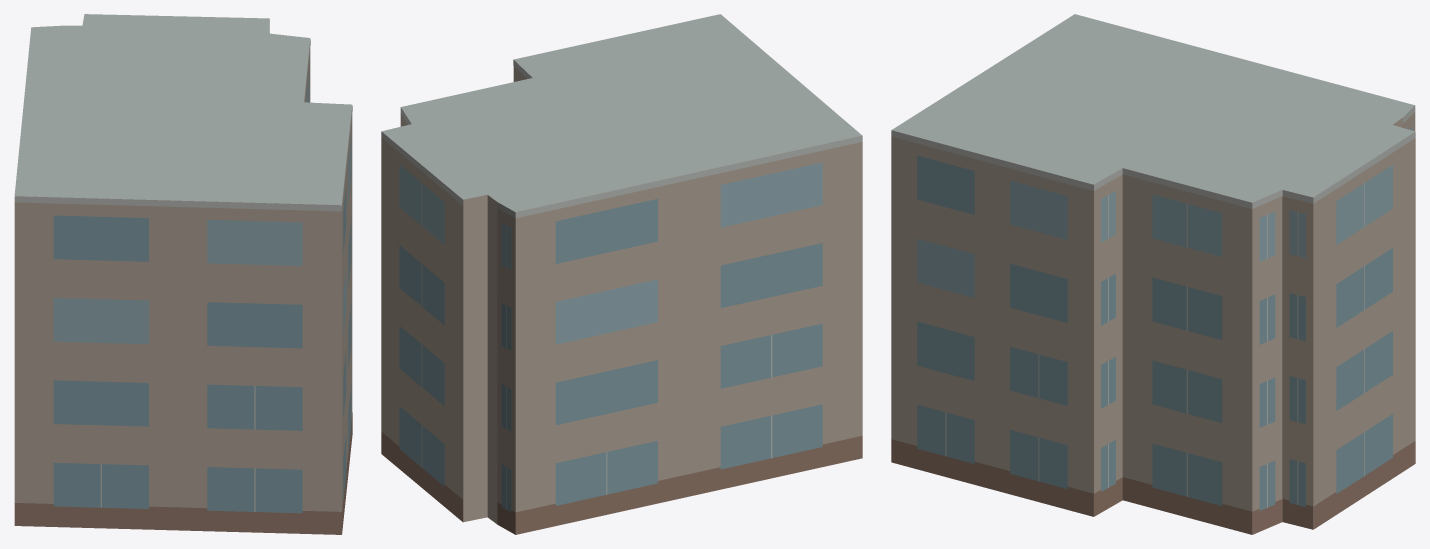
File: survey-upis-32856568.glb
3 views of the same model, side by side, from view 1: azimuth 30°, elevation 25°; view 2: azimuth 150°, elevation 25°; view 3: azimuth 270°, elevation 25° (orthographic). The views are drawn at different scales.
Parts seen in each view (by area): view 1: survey-upis-32856568.tmp; view 2: survey-upis-32856568.tmp; view 3: survey-upis-32856568.tmp.
Boxes of the visible parts, x1,y1,x2,y2 form: survey-upis-32856568.tmp: [14, 14, 352, 534]; survey-upis-32856568.tmp: [381, 14, 862, 534]; survey-upis-32856568.tmp: [891, 14, 1415, 534].
Bounding box in the file's own units: 15.78 × 12.94 × 18.52.
